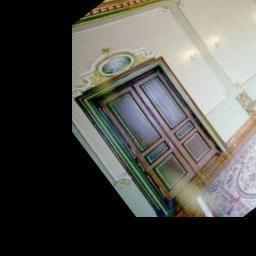Puerta: (93, 53, 229, 198)
